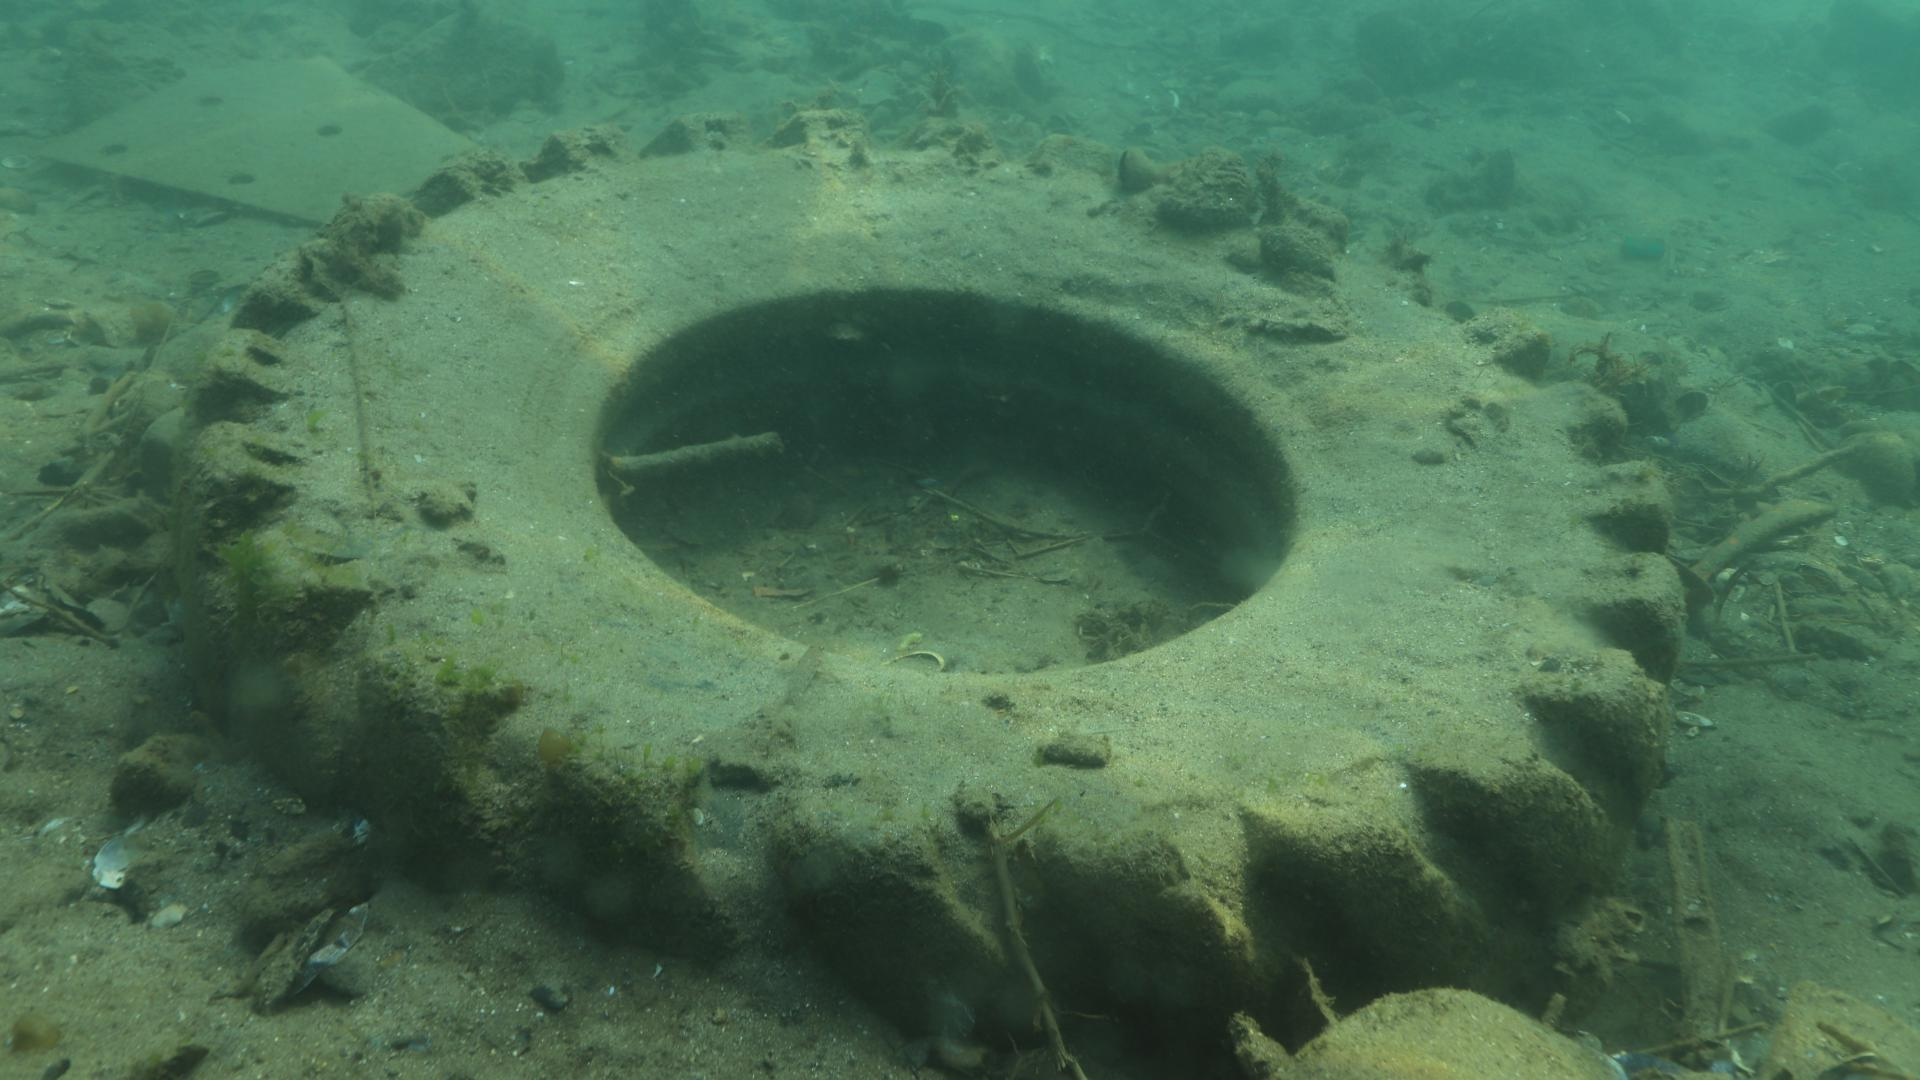tire: (173, 107, 1691, 1071)
